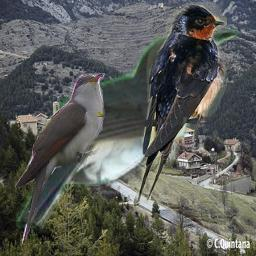Cuckoo: (16, 29, 240, 230), (14, 73, 105, 247)
Swallow: (132, 2, 227, 204)
